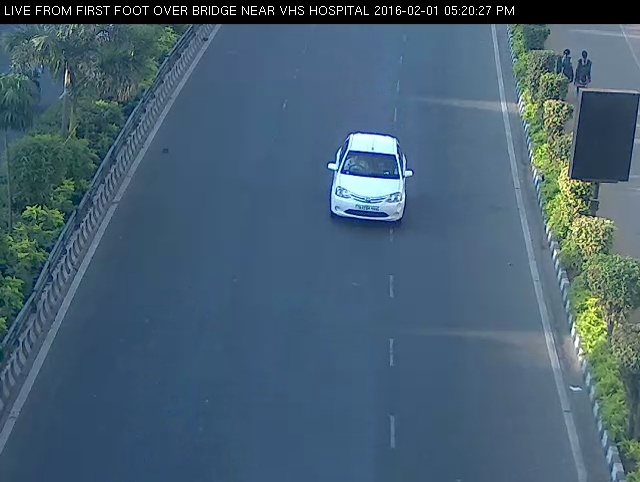Car: (312, 109, 429, 243)
